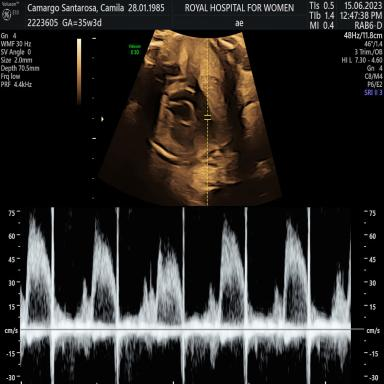Ultrasound-Waves: (25, 206, 351, 384)
